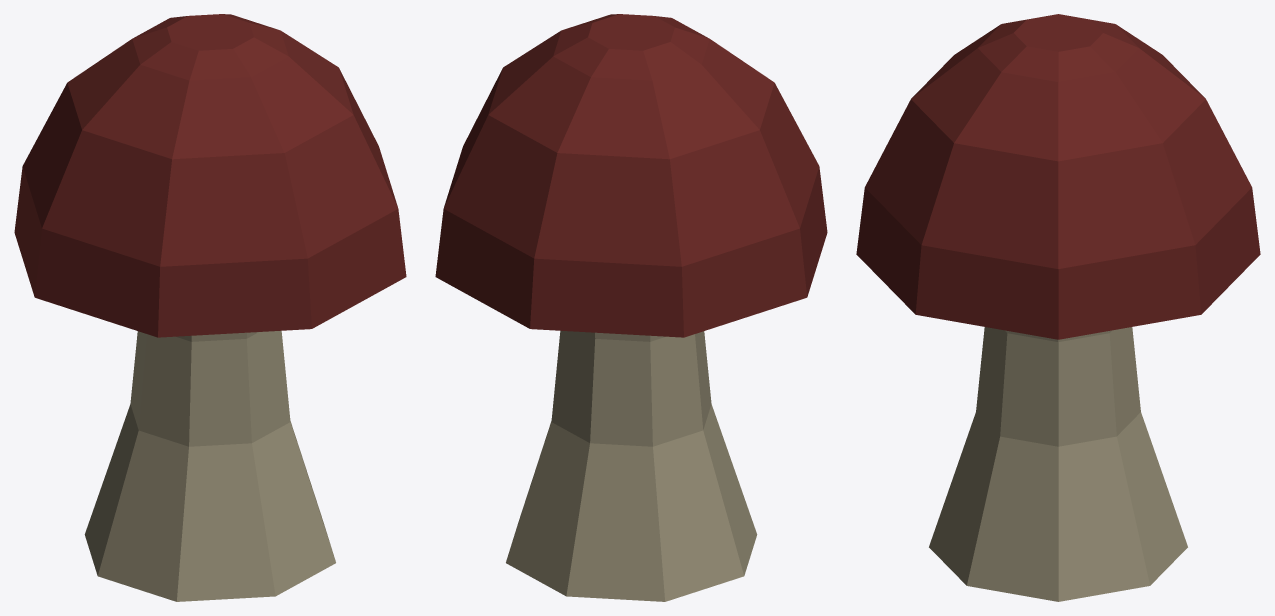
Rendered from MushBig.glb.
3 views of the same model, side by side, from view 1: azimuth 30°, elevation 25°; view 2: azimuth 150°, elevation 25°; view 3: azimuth 270°, elevation 25° (orthographic).
Parts seen in each view (by area): view 1: Mush 1.001, Mush 1; view 2: Mush 1.001, Mush 1; view 3: Mush 1.001, Mush 1.
Boxes of the visible parts, x1,y1,x2,y2 form: Mush 1.001: (14,14,406,337); Mush 1: (84,330,335,601); Mush 1.001: (435,14,827,337); Mush 1: (506,330,757,601); Mush 1.001: (856,14,1260,339); Mush 1: (929,327,1187,601).
Size of the model in its own units: 0.9095 by 1.28 by 0.9095.
